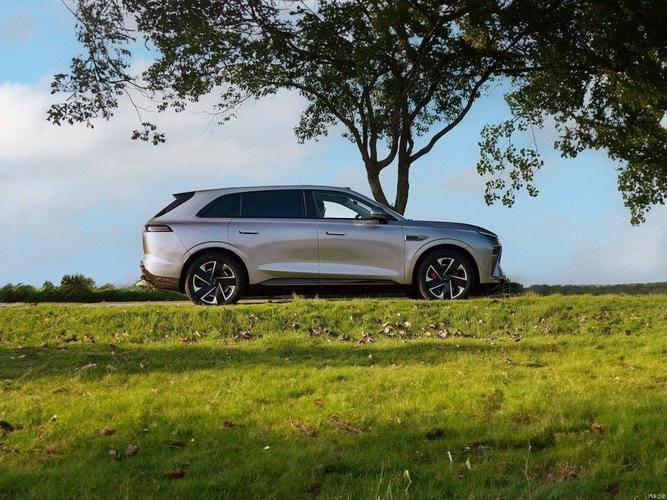汽车: (140, 183, 513, 302)
